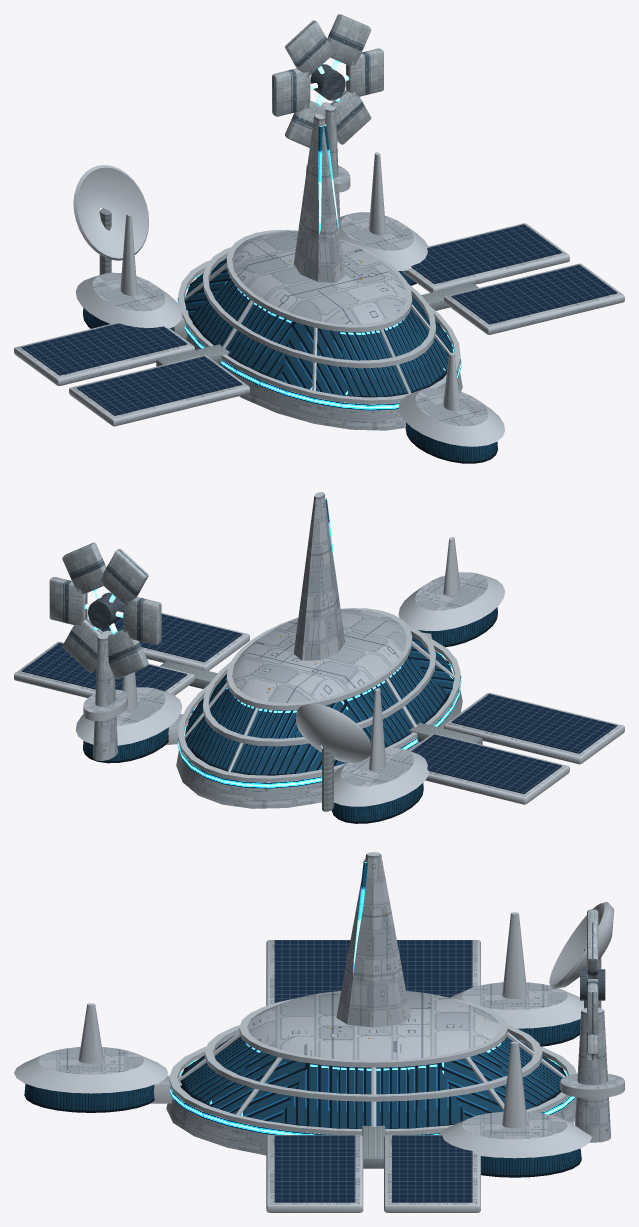
The model's file is alliance_research_outpost.glb.
3 views of the same model, one above another, from view 1: azimuth 30°, elevation 25°; view 2: azimuth 150°, elevation 25°; view 3: azimuth 270°, elevation 25° (orthographic). The views are drawn at different scales.
Visible parts, largest first — view 1: alliance_research_outpost_lod_source; view 2: alliance_research_outpost_lod_source; view 3: alliance_research_outpost_lod_source.
Boxes of the visible parts, box(x1,y1,x2,y2) form: alliance_research_outpost_lod_source: box(14, 14, 624, 463); alliance_research_outpost_lod_source: box(14, 492, 624, 823); alliance_research_outpost_lod_source: box(14, 852, 624, 1212).
Size of the model in its own units: 7.56 by 3.37 by 7.32.
Materials: 1 (1 with a texture image).
